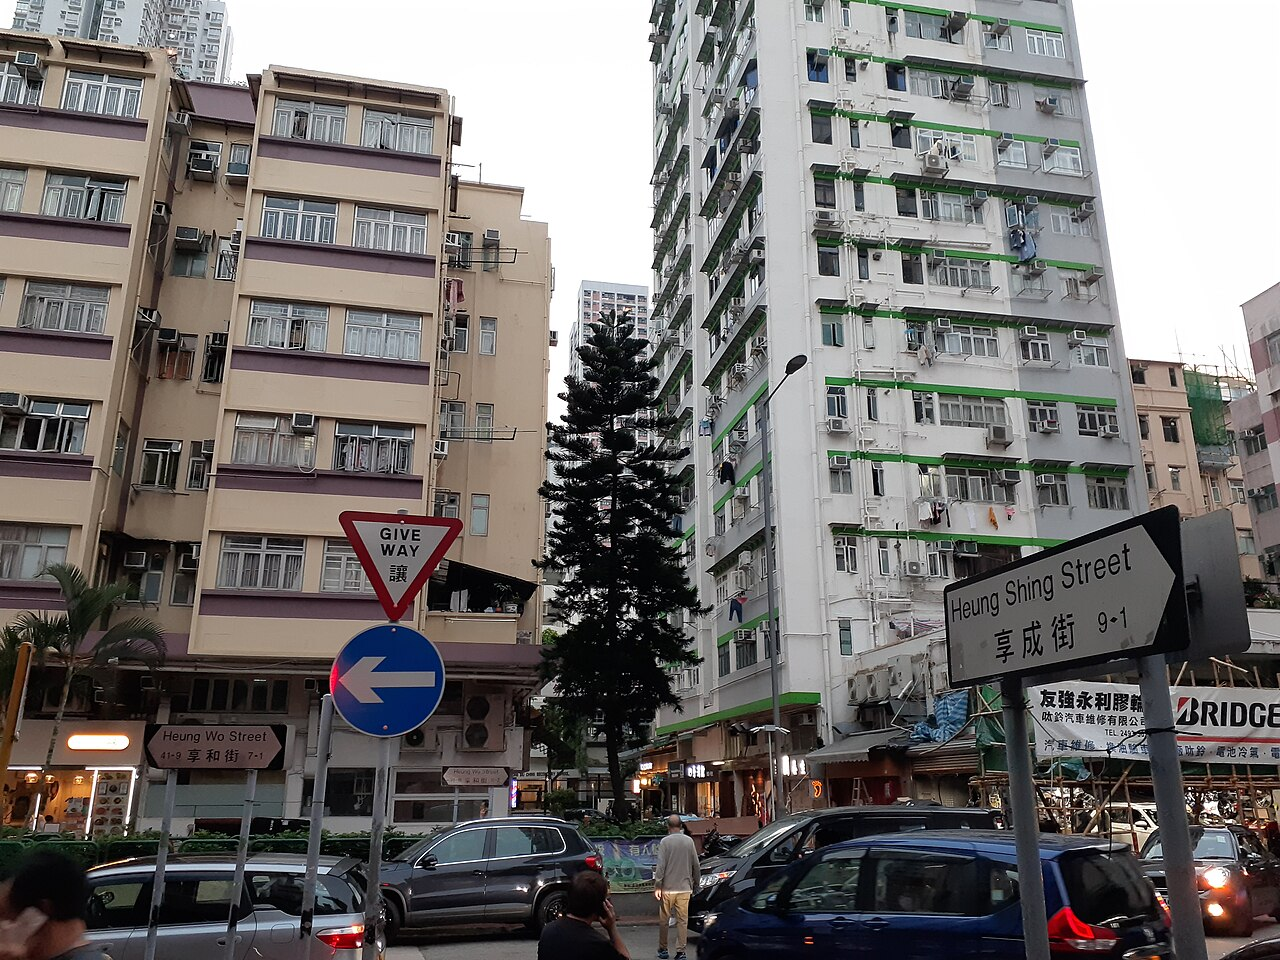Give Way: (339, 505, 464, 618)
Turn Left: (330, 625, 449, 732)
